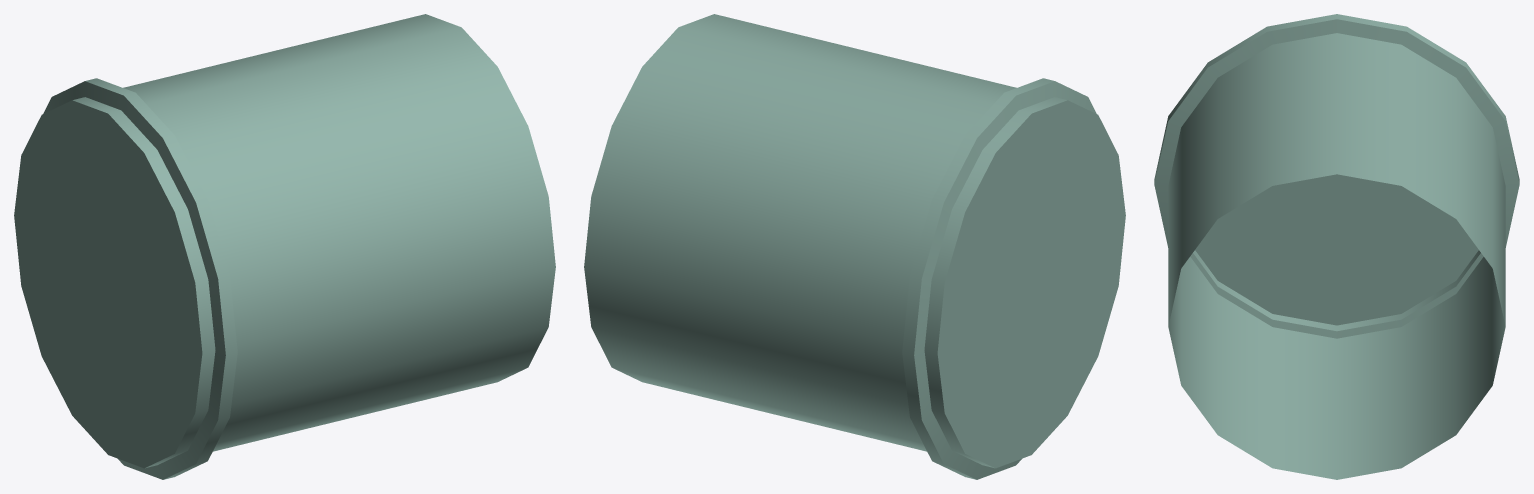
The model's file is PipeLarge_ConnectorWall.fbx.
3 renders of one model, left to right at view 1: azimuth 30°, elevation 25°; view 2: azimuth 150°, elevation 25°; view 3: azimuth 270°, elevation 25°, orthographic. The views are drawn at different scales.
Visible parts, largest first — view 1: PipeLarge_ConnectorWall.001; view 2: PipeLarge_ConnectorWall.001; view 3: PipeLarge_ConnectorWall.001.
Part boxes in pixels (x1,y1,x2,y2): PipeLarge_ConnectorWall.001: [14, 14, 555, 479]; PipeLarge_ConnectorWall.001: [584, 14, 1125, 479]; PipeLarge_ConnectorWall.001: [1154, 14, 1519, 479].
Size of the model in its own units: 0.2334 by 0.2334 by 0.2334.
